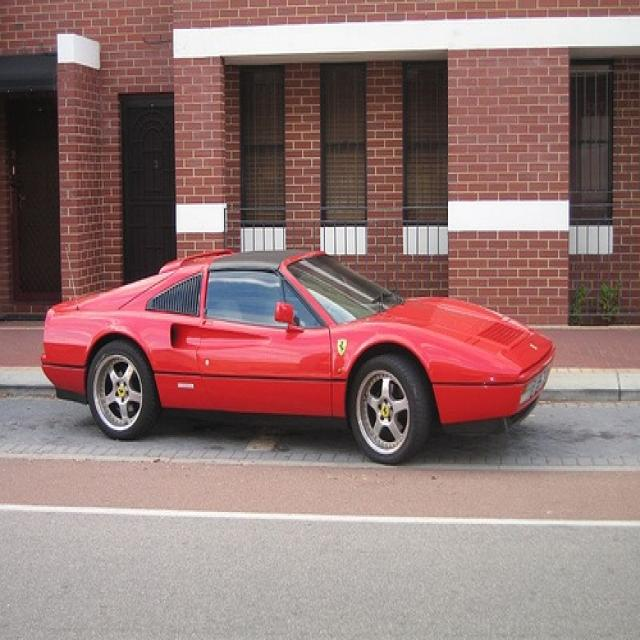car: (39, 248, 556, 464)
